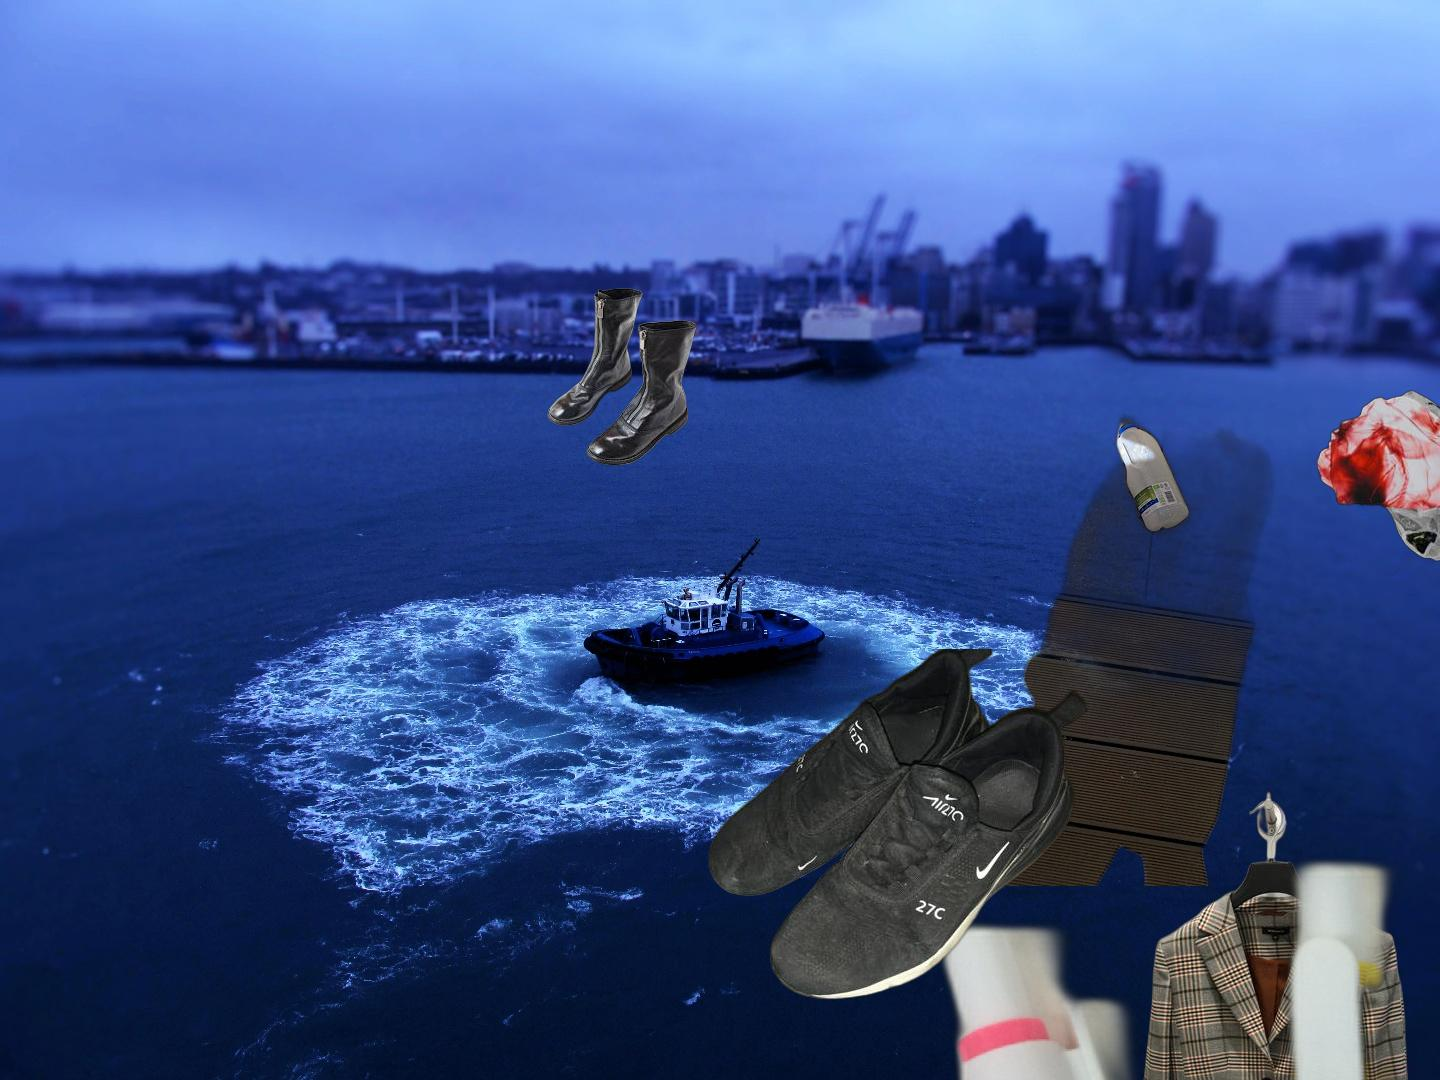clothes: (1126, 788, 1426, 1080)
penholder: (929, 843, 1440, 1080)
plastic-bag: (1314, 388, 1440, 565)
plastic-bottles: (982, 288, 1320, 886)
shoes: (705, 649, 1092, 1003), (545, 282, 698, 469)
